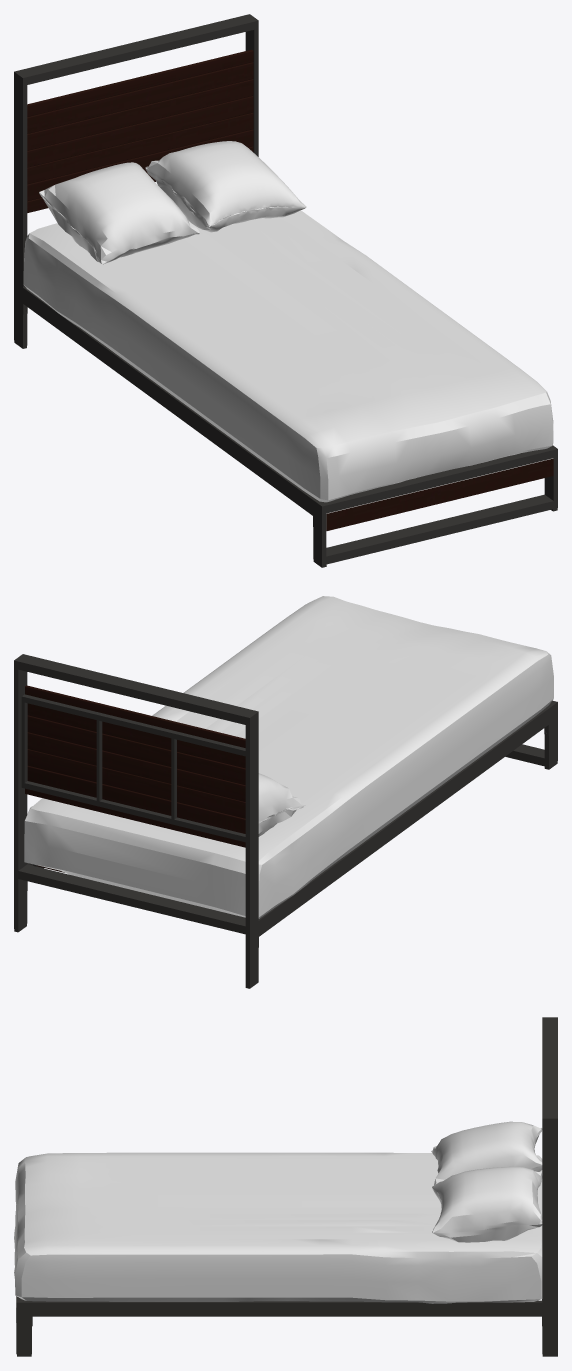
The picture shows the model from 3 angles, top to bottom: view 1: azimuth 30°, elevation 25°; view 2: azimuth 150°, elevation 25°; view 3: azimuth 270°, elevation 25°; orthographic projection. The views are drawn at different scales.
Parts seen in each view (by area): view 1: C-skp3161; view 2: C-skp3161; view 3: C-skp3161.
Boxes of the visible parts, box(x1,y1,x2,y2) form: C-skp3161: box(14, 14, 557, 567); C-skp3161: box(14, 596, 557, 988); C-skp3161: box(14, 1017, 557, 1356).
Bounding box in the file's own units: 0.92 × 0.9999 × 2.07.
Materials: 3 (1 with a texture image).
